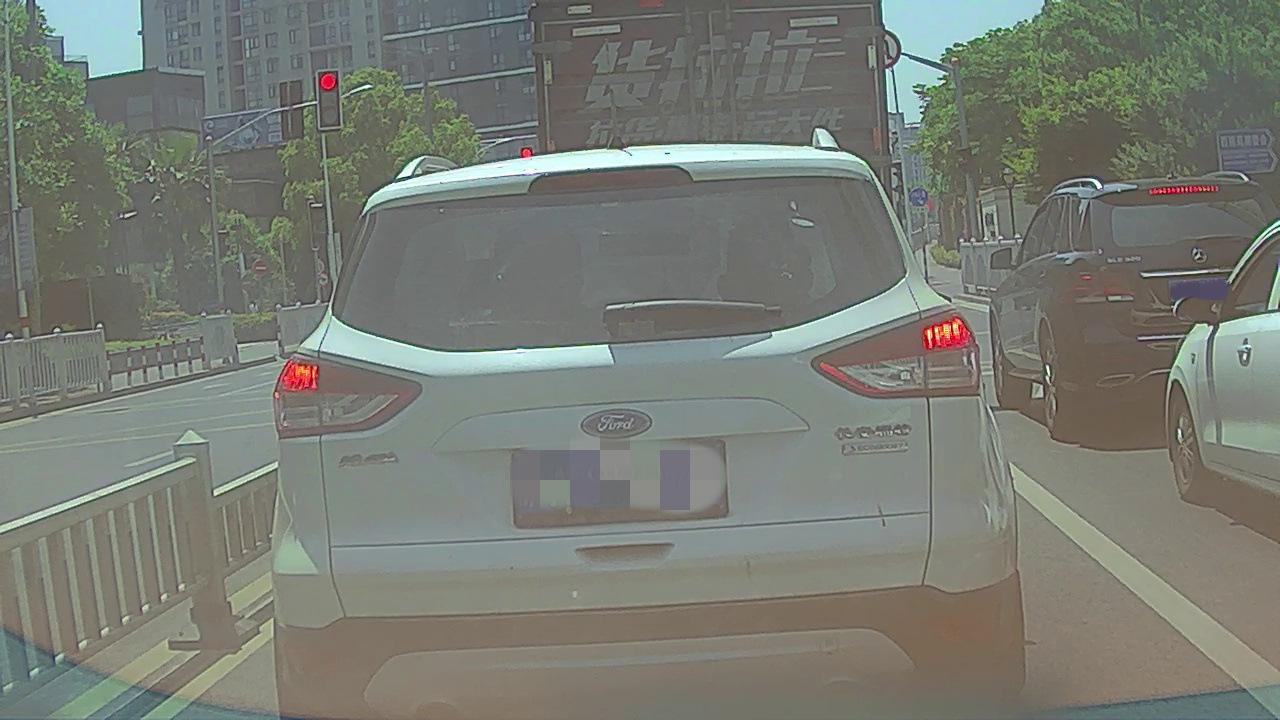traffic_light: (316, 71, 341, 128), (520, 146, 532, 158)
